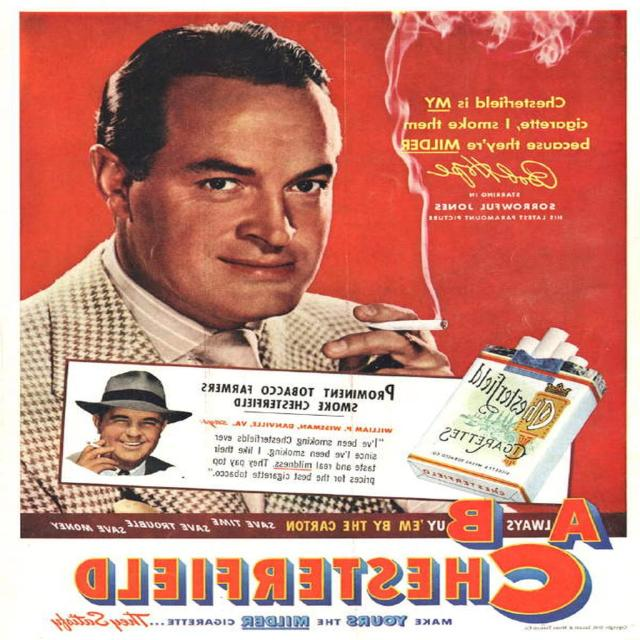smoking: (269, 246, 483, 389)
